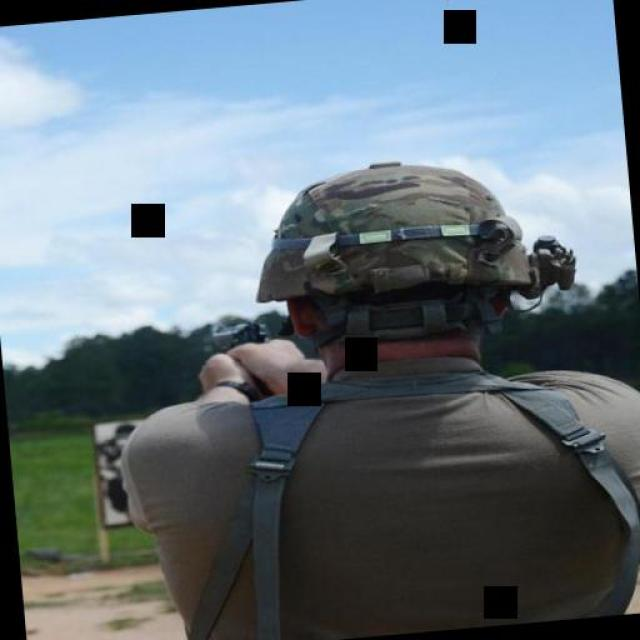gun: (194, 315, 271, 367)
